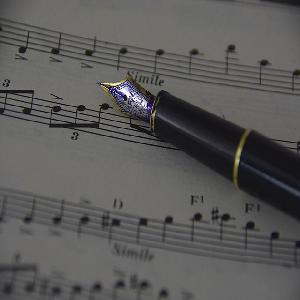pen: (94, 63, 300, 227)
